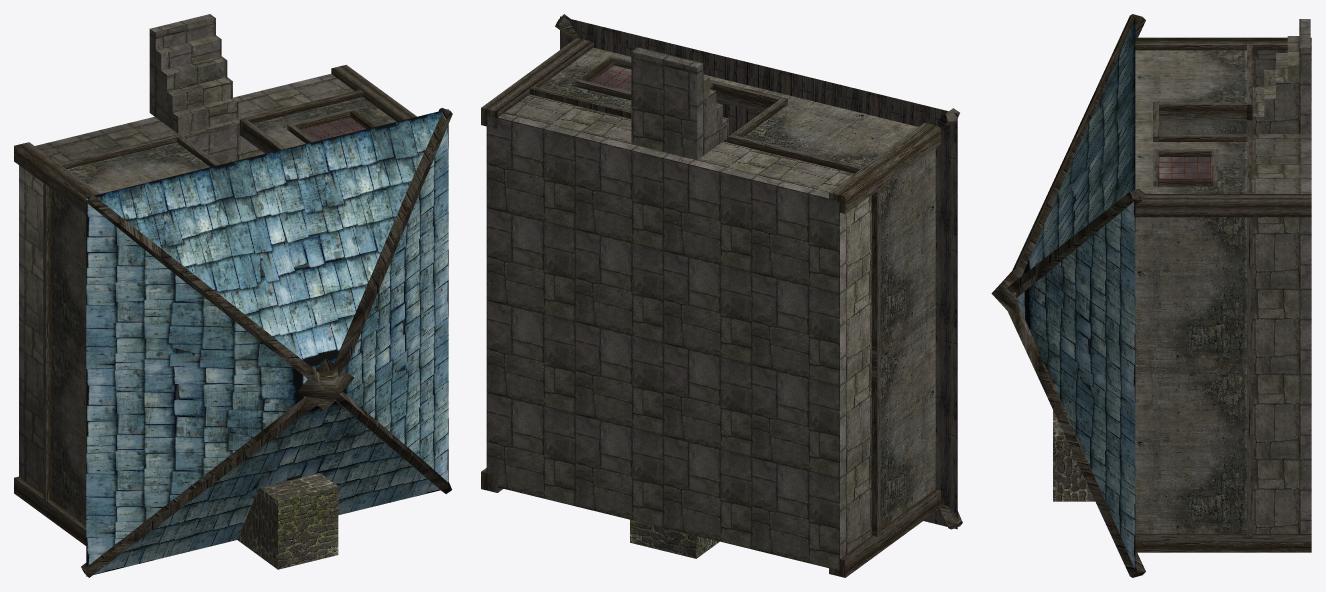
The model's file is house21.obj.
3 renders of one model, left to right at view 1: azimuth 30°, elevation 25°; view 2: azimuth 150°, elevation 25°; view 3: azimuth 270°, elevation 25°, orthographic. The views are drawn at different scales.
Visible parts, largest first — view 1: hawz01Frame; view 2: hawz01Frame; view 3: hawz01Frame.
Part boxes in pixels (x1,y1,x2,y2): hawz01Frame: (14,14,452,577); hawz01Frame: (481,14,962,577); hawz01Frame: (991,14,1311,577).
Size of the model in its own units: 14.65 by 17.15 by 10.9.
